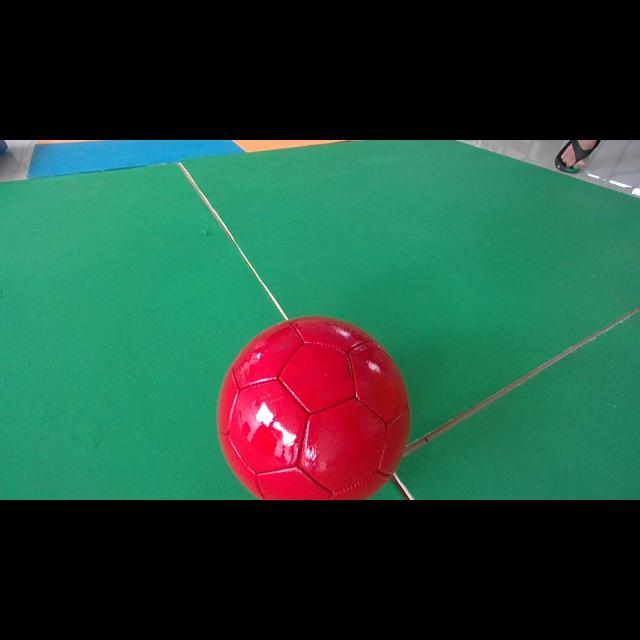R: (218, 318, 409, 499)
